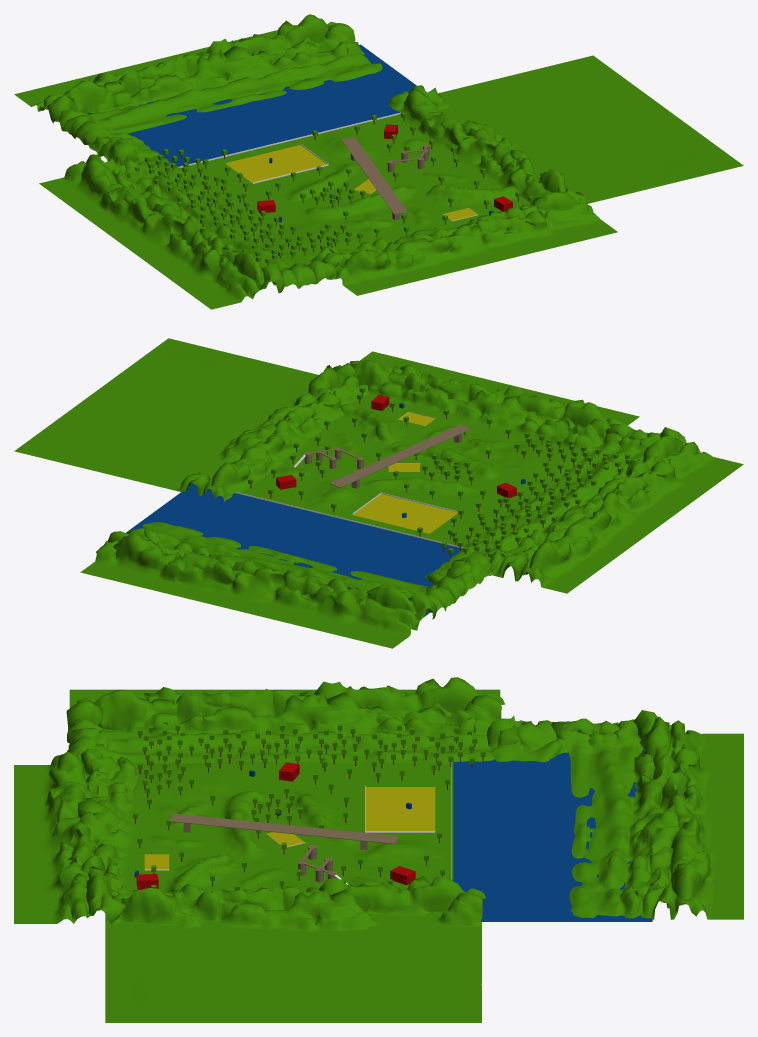
Rendered from Env_Terrain_Mo_Oct31.fbx.
3 views of the same model, one above another, from view 1: azimuth 30°, elevation 25°; view 2: azimuth 150°, elevation 25°; view 3: azimuth 270°, elevation 25° (orthographic). The views are drawn at different scales.
Visible parts, largest first — view 1: Mountain, Mountain3, Ground, Mountain2, Mountain1, Water, Corn, Bridge; view 2: Mountain, Mountain3, Ground, Mountain2, Water, Mountain1, Corn, Bridge; view 3: Mountain, Mountain3, Ground, Mountain2, Water, Mountain1, Corn, Bridge.
Boxes of the visible parts, x1,y1,x2,y2 form: Mountain: [388, 55, 743, 205]; Mountain3: [14, 14, 446, 161]; Ground: [181, 114, 531, 260]; Mountain2: [39, 154, 340, 309]; Mountain1: [310, 173, 617, 295]; Water: [87, 44, 416, 166]; Corn: [225, 145, 326, 183]; Bridge: [341, 137, 408, 214]; Mountain: [14, 338, 369, 501]; Mountain3: [80, 474, 494, 648]; Ground: [240, 395, 591, 546]; Mountain2: [449, 423, 743, 593]; Water: [126, 483, 462, 617]; Mountain1: [332, 351, 639, 452]; Corn: [353, 494, 457, 533]; Bridge: [329, 424, 470, 487]; Mountain: [105, 876, 485, 1022]; Mountain3: [411, 710, 743, 919]; Ground: [126, 761, 453, 895]; Mountain2: [66, 677, 505, 780]; Water: [453, 749, 652, 921]; Mountain1: [14, 748, 216, 923]; Corn: [365, 787, 435, 830]; Bridge: [169, 813, 399, 844].
Size of the model in its own units: 576 by 31.39 by 533.
